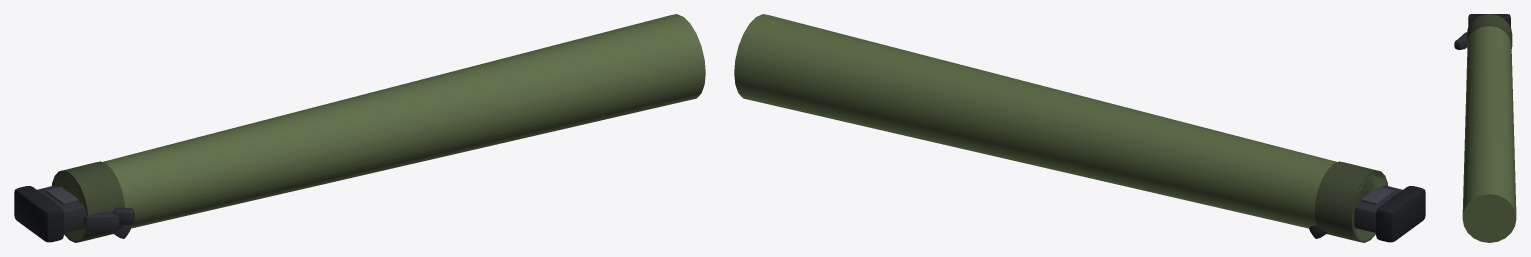
The model's file is hands.glb.
3 views of the same model, side by side, from view 1: azimuth 30°, elevation 25°; view 2: azimuth 150°, elevation 25°; view 3: azimuth 270°, elevation 25° (orthographic). The views are drawn at different scales.
Parts seen in each view (by area): view 1: forearm, hand_l; view 2: forearm, hand_l; view 3: forearm, hand_l.
Boxes of the visible parts, left/top/right/bottom form: forearm: left=51, top=14, right=705, bottom=242; hand_l: left=14, top=185, right=134, bottom=242; forearm: left=734, top=14, right=1388, bottom=242; hand_l: left=1354, top=185, right=1425, bottom=242; forearm: left=1462, top=14, right=1516, bottom=242; hand_l: left=1454, top=14, right=1510, bottom=49.
Size of the model in its own units: 1.06 by 0.124 by 0.1426.
